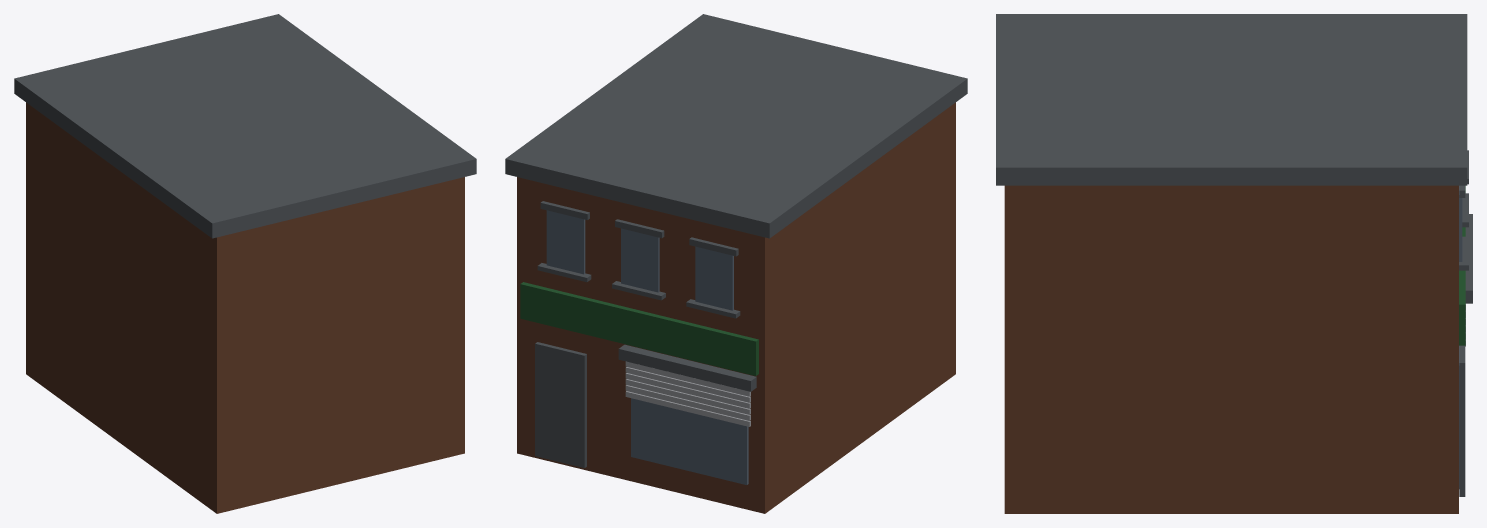
File: bodega.glb
3 renders of one model, left to right at view 1: azimuth 30°, elevation 25°; view 2: azimuth 150°, elevation 25°; view 3: azimuth 270°, elevation 25°, orthographic. The views are drawn at different scales.
Visible parts, largest first — view 1: Cube, Cube.001; view 2: Cube, Cube.001, Cube.002, Cube.003, Cube.005, Cube.012, Cube.019, Cube.016, Cube.013, Cube.007, Cube.008, Cube.009 (+3 smaller); view 3: Cube, Cube.001, Cube.005, Cube.002, Cube.012.
Boxes of the visible parts, box(x1,y1,x2,y2) form: Cube: box(26, 102, 464, 513); Cube.001: box(14, 14, 476, 238); Cube: box(517, 102, 955, 513); Cube.001: box(505, 14, 967, 238); Cube.002: box(520, 282, 758, 375); Cube.003: box(631, 398, 748, 484); Cube.005: box(535, 342, 586, 467); Cube.012: box(618, 344, 756, 391); Cube.019: box(546, 210, 585, 274); Cube.016: box(621, 228, 659, 292); Cube.013: box(695, 246, 733, 310); Cube.007: box(625, 367, 750, 402); Cube.008: box(625, 373, 750, 408); Cube.009: box(625, 379, 750, 414); Cube: box(1004, 185, 1458, 513); Cube.001: box(996, 14, 1467, 185); Cube.005: box(1459, 345, 1465, 496); Cube.002: box(1459, 186, 1465, 345); Cube.012: box(1465, 214, 1472, 303).
Size of what is drawn, in the model's own units: 6.4 by 6.83 by 8.39.
